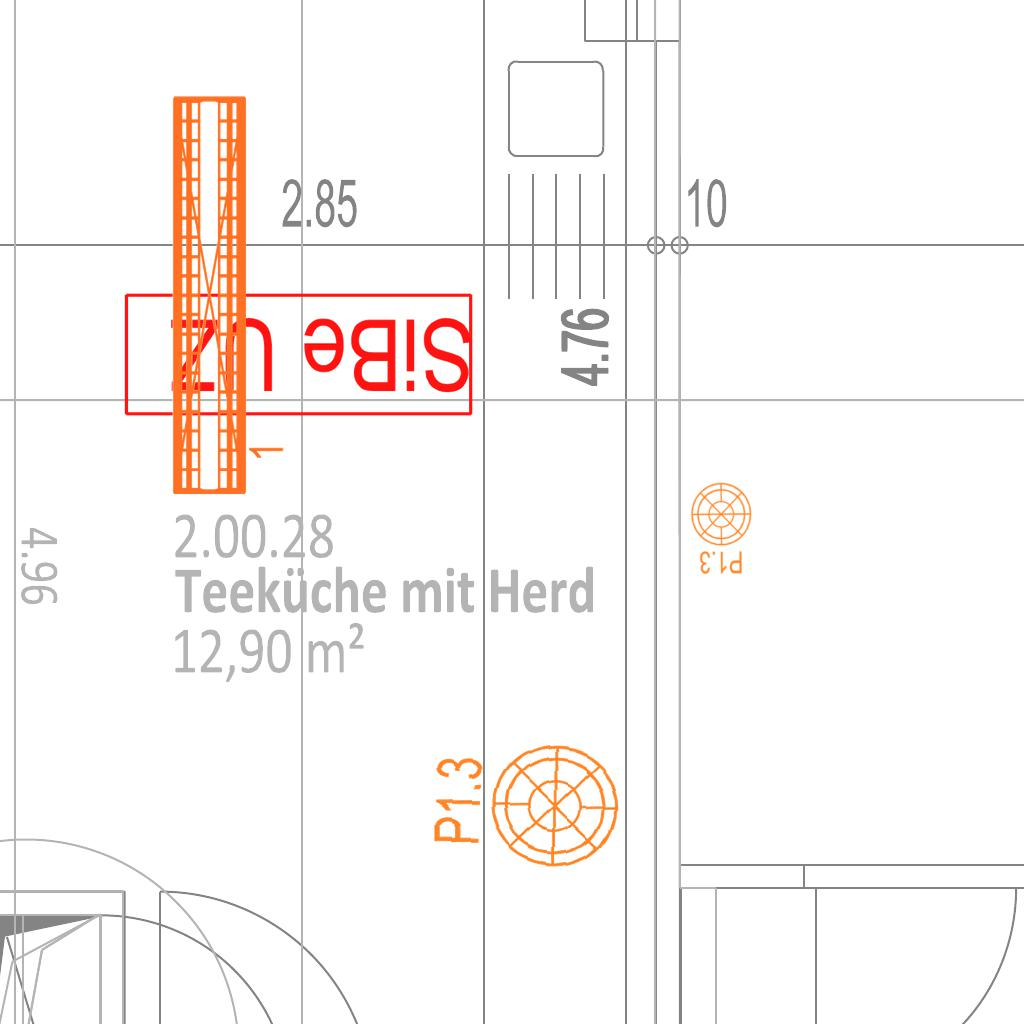Aufbaurundleuchte_LED_Treppenhaus: (413, 723, 626, 874), (684, 481, 753, 583)
Buero_Pendelleuchten_LED: (163, 88, 293, 501)
Zentrale_Sicherheitsbeleuchtung: (119, 289, 476, 419)
